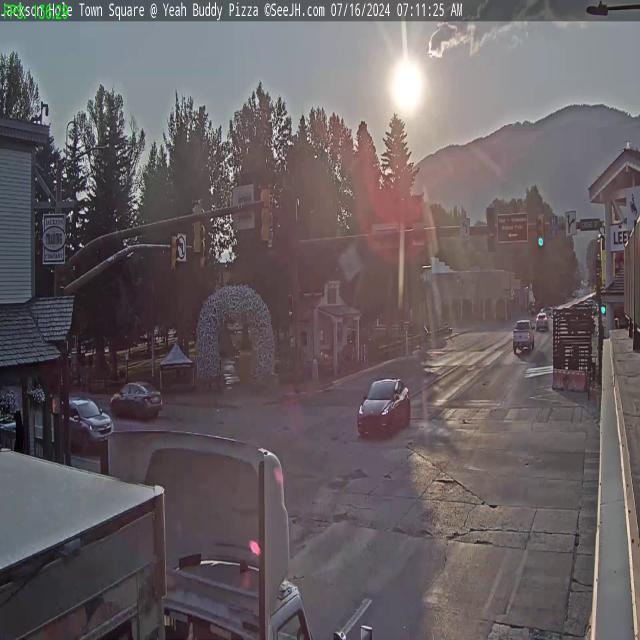pickup: (512, 318, 534, 352)
sedan: (357, 374, 412, 440), (110, 378, 162, 421)
suv: (51, 395, 117, 461)
traffic light: (260, 184, 273, 246), (190, 199, 203, 254), (168, 233, 180, 275), (486, 208, 497, 252), (537, 215, 545, 247)
